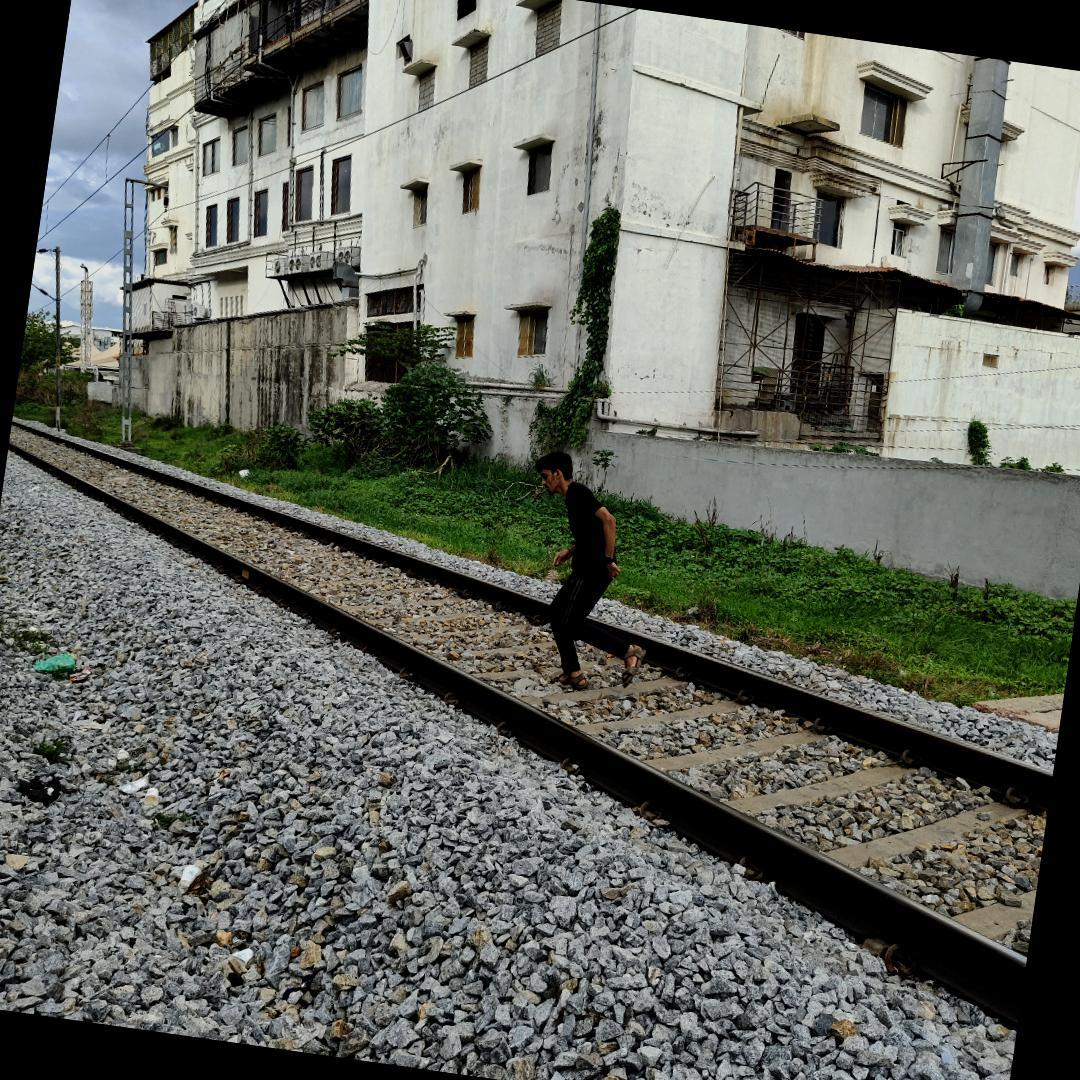standing: (527, 446, 658, 711)
